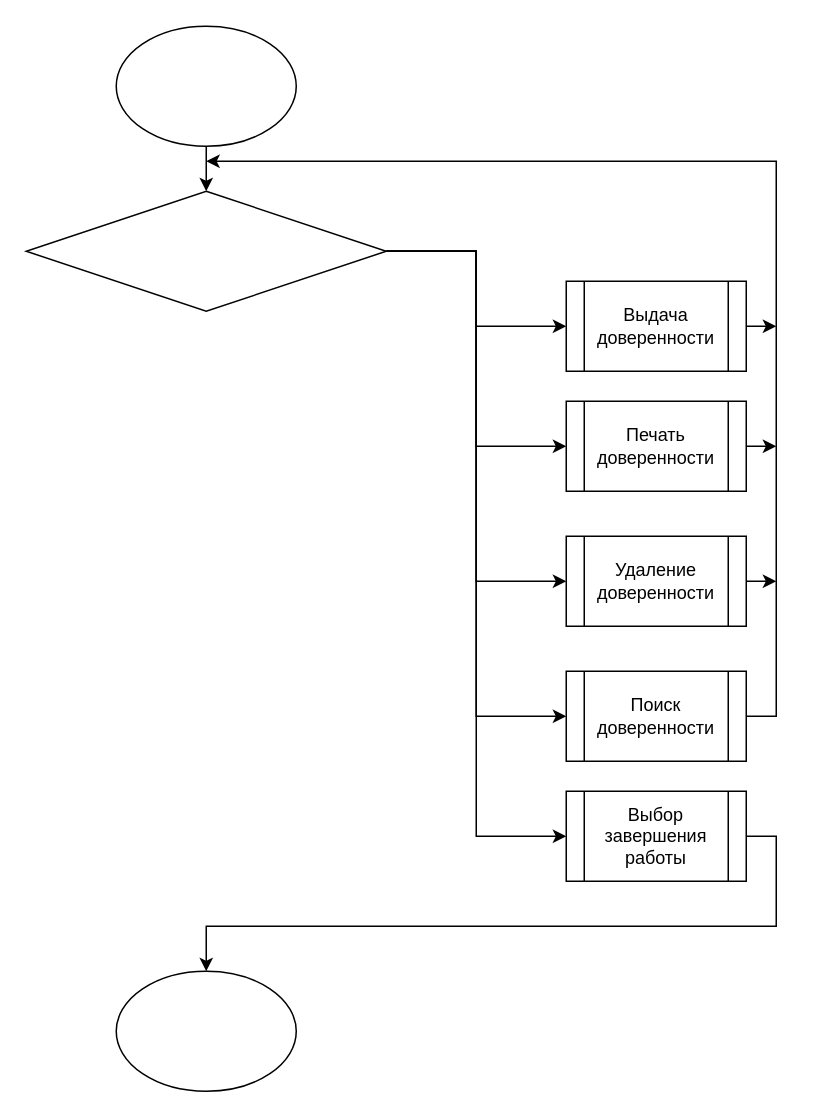
Image size: 815x1118. Some labels were removed from this diagram. The centre of each missing label's shape, as x and y in pixels:
Выбор действия: pixel 205 250
Конец: pixel 205 1030
Начало: pixel 205 85
